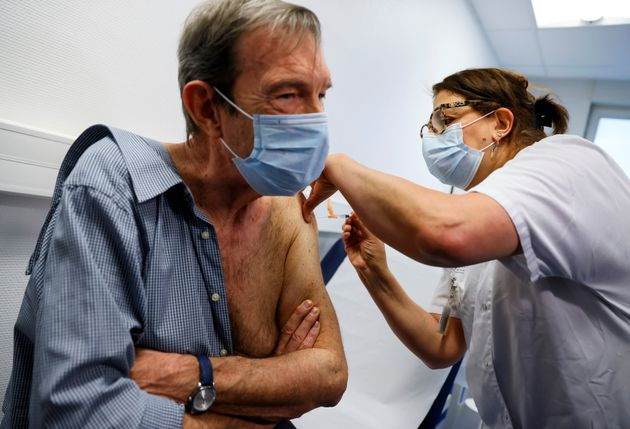with_mask: (235, 61, 324, 187), (429, 98, 485, 179)
